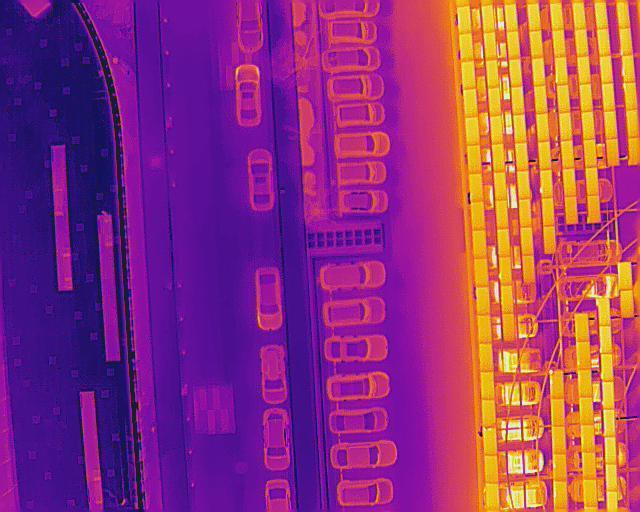Cell: (549, 370, 563, 398), (553, 454, 566, 481)
Cell-Multi: (483, 426, 496, 455)
No-Anomaly: (594, 2, 609, 30), (529, 30, 543, 59), (474, 258, 488, 287), (604, 111, 618, 140), (599, 56, 613, 85), (602, 83, 616, 112), (527, 3, 541, 31), (550, 3, 564, 31), (575, 29, 589, 57), (575, 314, 589, 342), (472, 231, 486, 259), (520, 227, 534, 255), (480, 371, 494, 399), (538, 142, 552, 170), (605, 138, 619, 166), (624, 82, 638, 110), (507, 30, 520, 60), (583, 480, 597, 507), (619, 29, 633, 56), (618, 262, 632, 289), (616, 2, 630, 29), (531, 59, 545, 86), (467, 144, 480, 173), (478, 315, 491, 344), (519, 198, 532, 227), (495, 200, 508, 229), (471, 201, 484, 230), (464, 88, 477, 117), (560, 140, 573, 169), (486, 59, 499, 88), (577, 55, 590, 84), (581, 425, 594, 453), (552, 30, 565, 58), (597, 28, 610, 56), (484, 455, 497, 483), (552, 426, 565, 454), (551, 399, 564, 427), (585, 168, 598, 196), (580, 397, 593, 425), (563, 169, 576, 197), (542, 198, 555, 226), (565, 197, 578, 225), (457, 6, 470, 34), (521, 255, 534, 283), (620, 289, 633, 317), (578, 369, 591, 397), (479, 343, 492, 371), (576, 342, 589, 370), (511, 87, 524, 115), (626, 109, 639, 137), (572, 3, 586, 29), (559, 112, 572, 140), (536, 113, 549, 141), (584, 140, 597, 168), (509, 59, 522, 87), (555, 57, 568, 85), (580, 84, 593, 112), (557, 85, 570, 113), (582, 453, 595, 480), (484, 32, 497, 59), (517, 172, 530, 199), (543, 226, 556, 253), (534, 87, 547, 114), (582, 112, 595, 139), (622, 56, 635, 83), (486, 482, 499, 509), (492, 144, 504, 173), (470, 173, 482, 202), (481, 6, 494, 32), (505, 5, 518, 31), (587, 196, 600, 222), (515, 143, 527, 171), (603, 409, 615, 437), (482, 399, 494, 427), (602, 381, 614, 409), (540, 170, 552, 198), (476, 287, 488, 315), (601, 354, 613, 382), (628, 138, 640, 166), (466, 117, 478, 145), (514, 115, 526, 143), (462, 61, 474, 89), (460, 34, 472, 61), (502, 314, 514, 341), (494, 173, 506, 200), (488, 88, 500, 115), (498, 228, 509, 257), (501, 285, 512, 314), (490, 115, 501, 144), (499, 258, 511, 284), (600, 326, 611, 354), (605, 464, 616, 491), (604, 437, 615, 464), (599, 299, 610, 326)
Unclassified: (553, 481, 567, 509)
